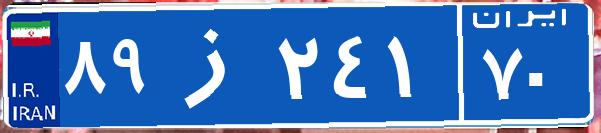0: (525, 38, 570, 115)
1: (385, 28, 445, 110)
2: (273, 28, 330, 110)
4: (330, 28, 385, 110)
7: (475, 38, 525, 113)
8: (57, 26, 110, 107)
9: (110, 28, 158, 105)
ز: (158, 15, 273, 115)
